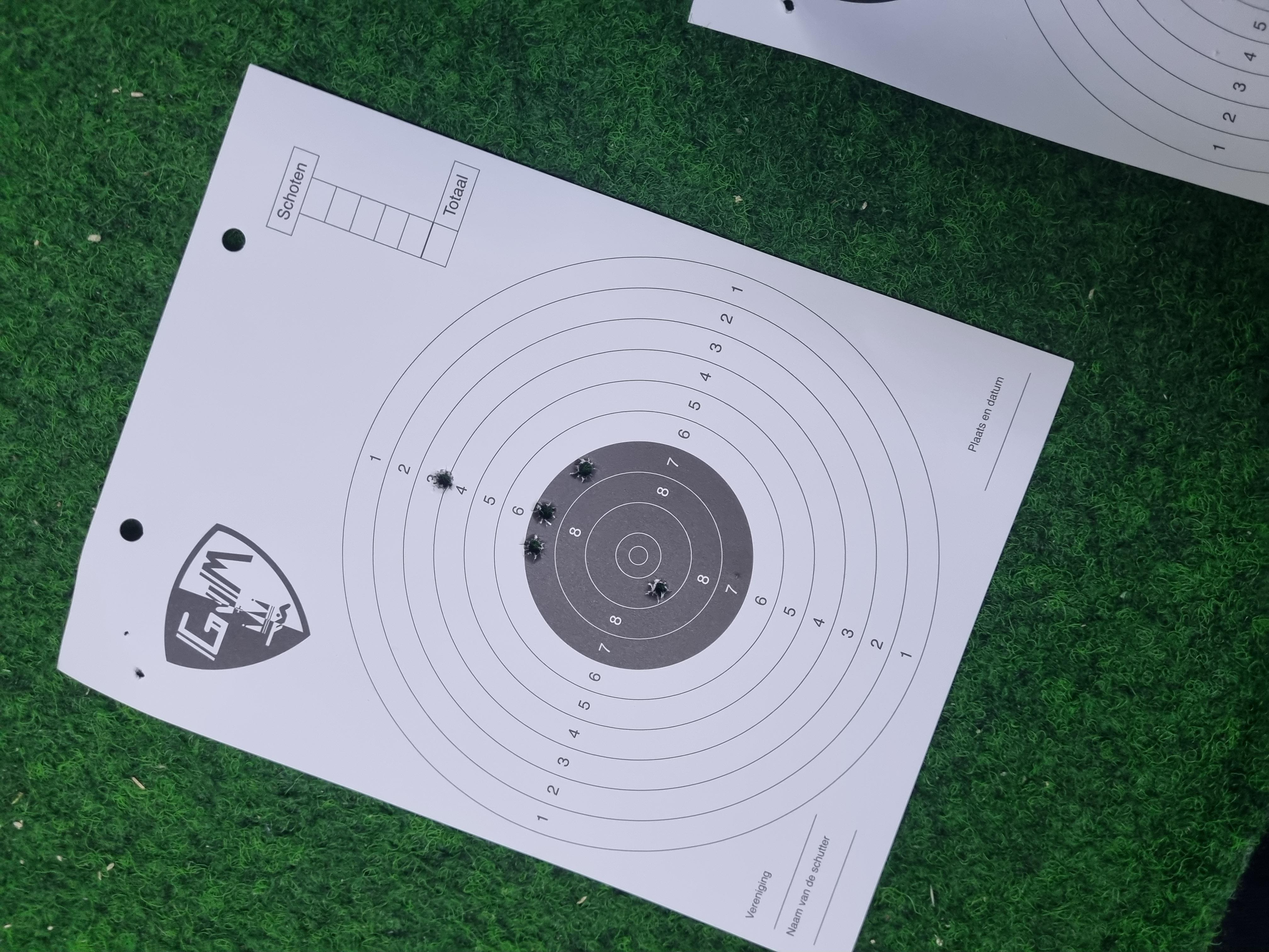hole: (518, 390, 558, 409), (463, 483, 498, 504), (624, 427, 658, 448), (566, 399, 602, 418), (612, 325, 646, 341)
